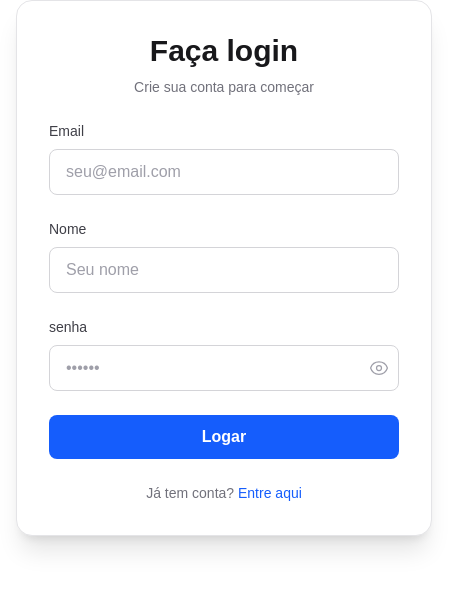
Test: RegisterComponent › should error name when hints the button
In the field labelled "Email": (224, 172) x1=49 y1=149 x2=399 y2=195, type "xlzthiago@gmail.com"
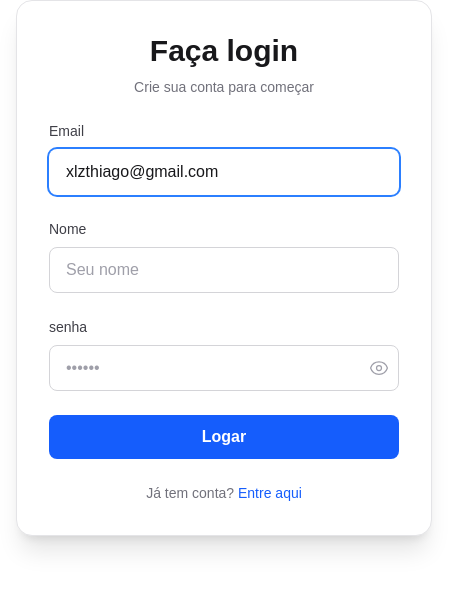
In the field labelled "Nome": (224, 270) x1=49 y1=247 x2=399 y2=293, type "T"
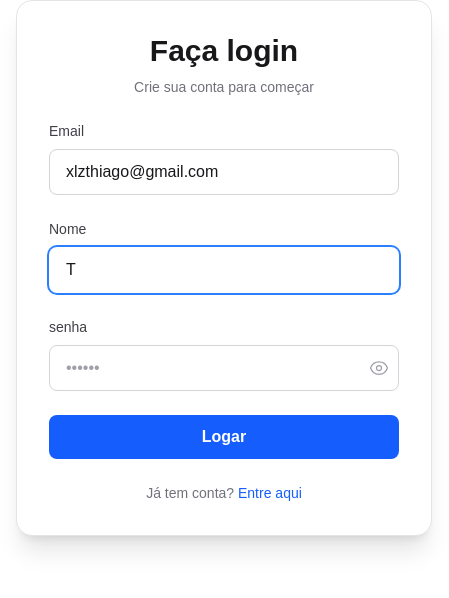
In the password field labelled "senha": (224, 368) x1=49 y1=345 x2=399 y2=391, type "123456"
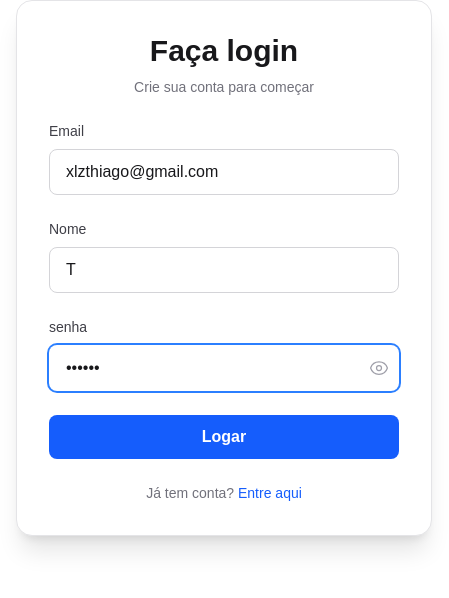
Click the button "Logar": (224, 437) x1=49 y1=415 x2=399 y2=459
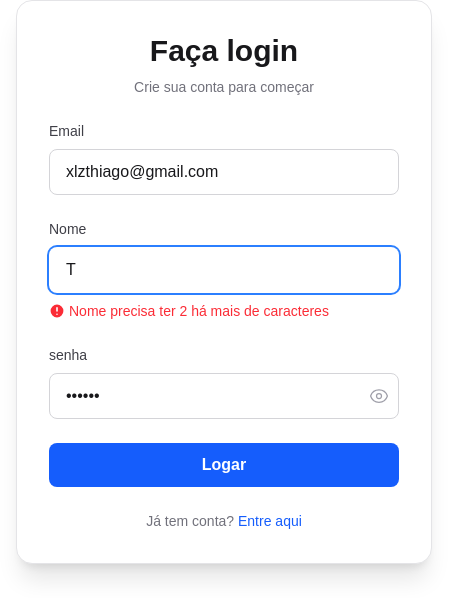
Expected: the text "Nome precisa ter 2 há mais de caracteres" is shown, x1=49 y1=303 x2=329 y2=319
